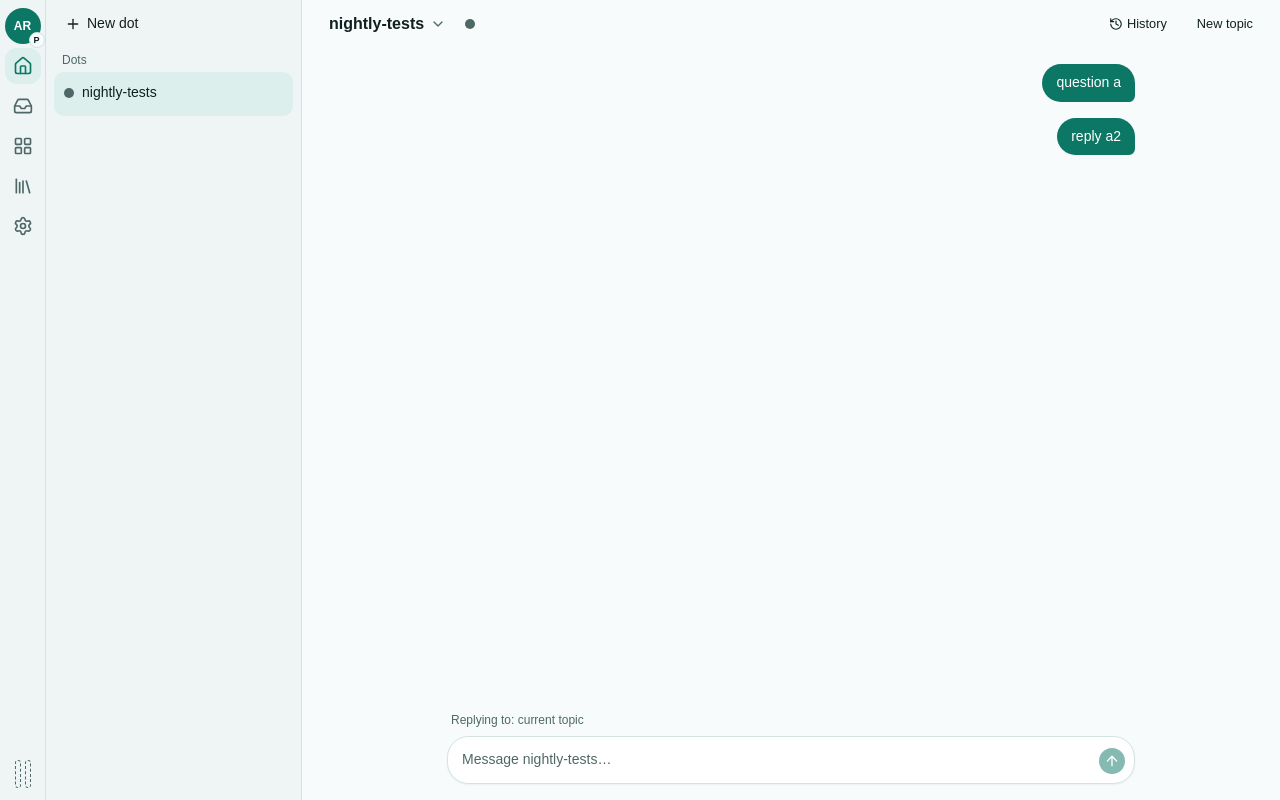
Test: sending on the home › continues the current topic from its last run
Step 1. Type "And now?" into the text box labelled "Message" → (773,760), box [456, 745, 1090, 775]
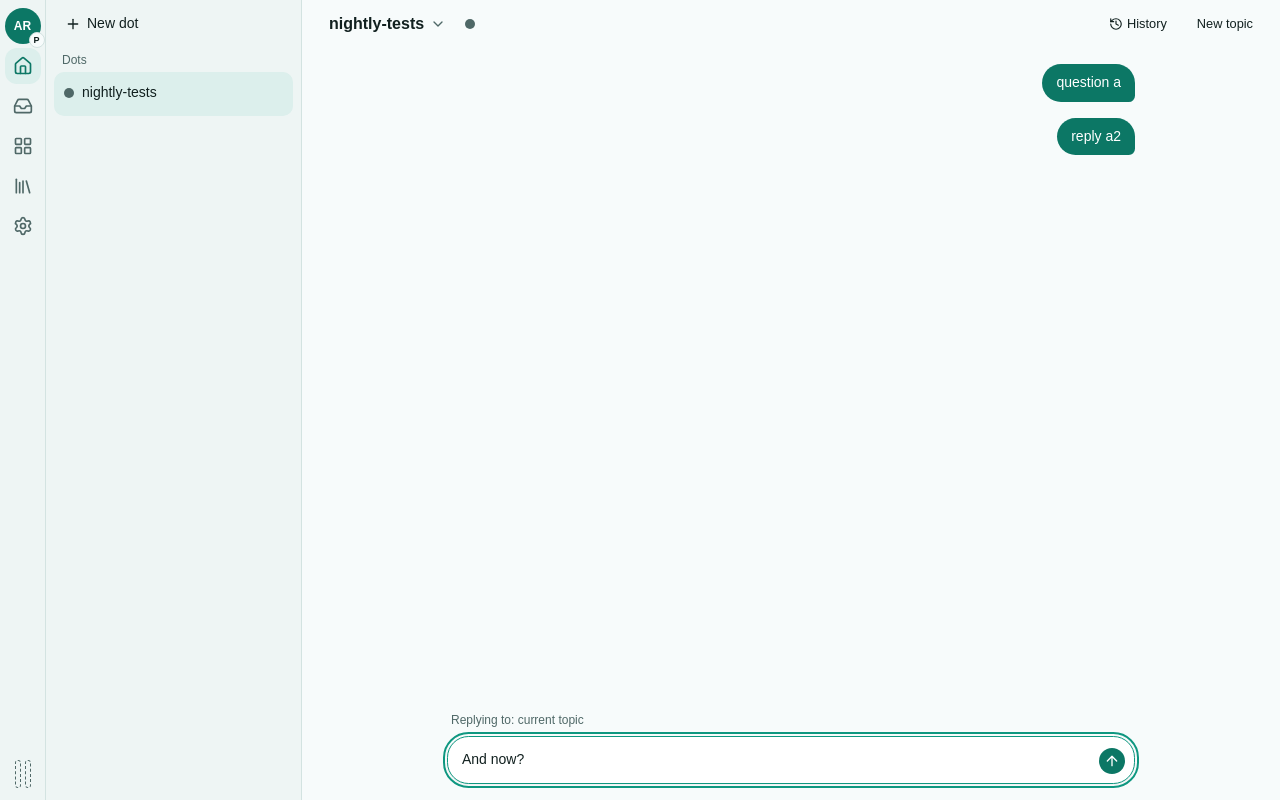
Check: the element named "Reply target" reads "Replying to: current topic", box [451, 713, 584, 727]
Step 2. Click the button named "Send" → (1112,761), box [1098, 747, 1126, 775]
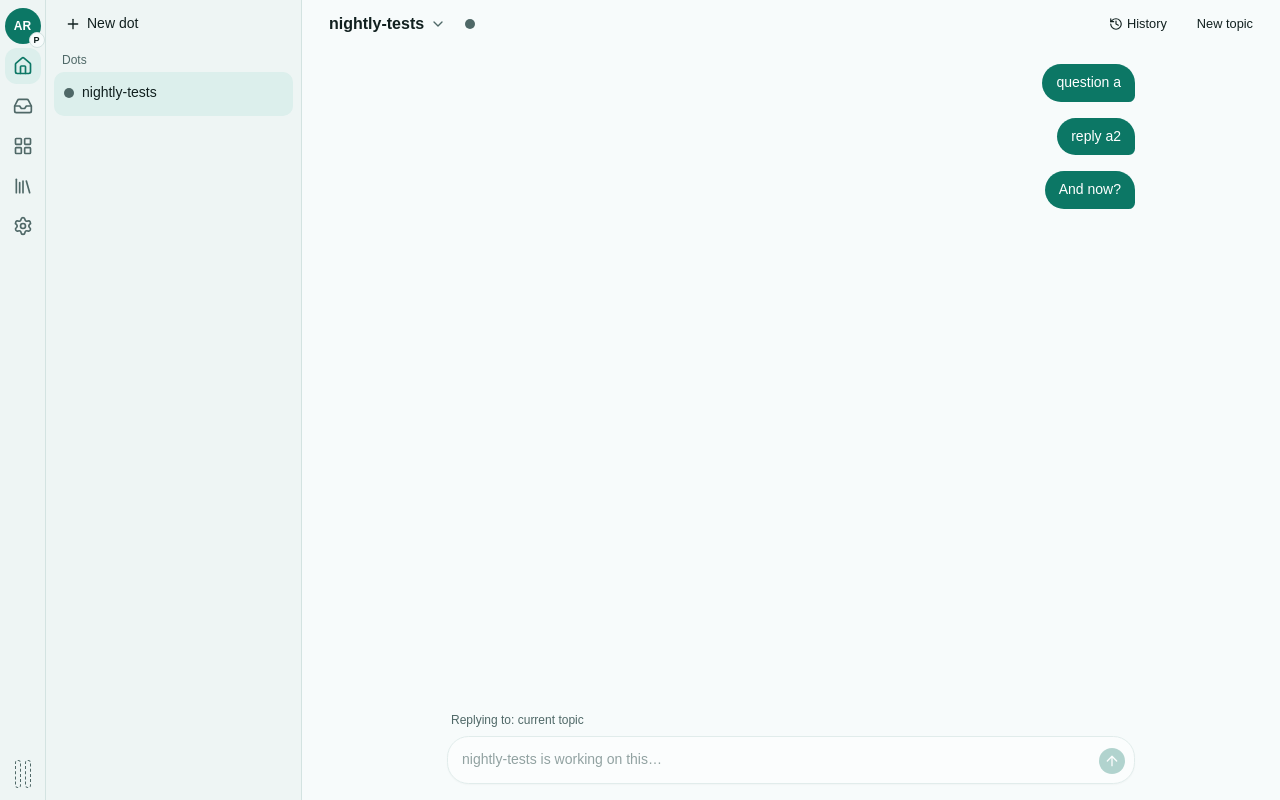
Check: the text box named "Message" is empty, box [456, 745, 1090, 775]
Check: the text "And now?" is shown, box [1045, 171, 1135, 209]
Check: the text box named "Message" is disabled, box [456, 745, 1090, 775]
